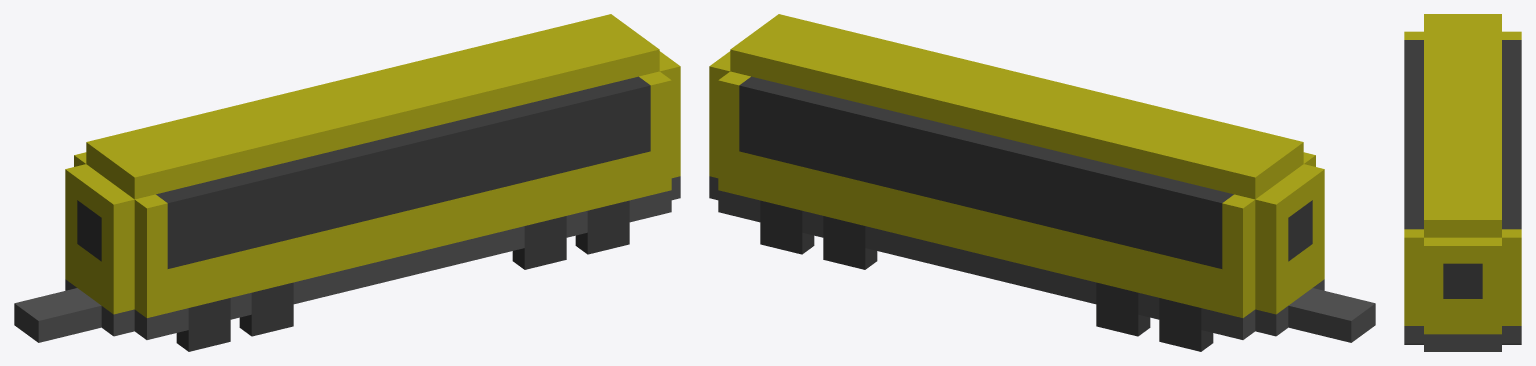
Rendered from train-trailer-v1-yellow.gltf.
The picture shows the model from 3 angles, left to right: view 1: azimuth 30°, elevation 25°; view 2: azimuth 150°, elevation 25°; view 3: azimuth 270°, elevation 25°; orthographic projection. The views are drawn at different scales.
Visible parts, largest first — view 1: model, wheels; view 2: model, wheels; view 3: model.
Boxes of the visible parts, bbox=[...] form: model: bbox=[14, 14, 680, 342]; wheels: bbox=[176, 200, 629, 351]; model: bbox=[709, 14, 1375, 342]; wheels: bbox=[760, 200, 1213, 351]; model: bbox=[1404, 14, 1521, 351].
Size of the model in its own units: 3 by 0.8 by 0.6.
Materials: 2 (2 with a texture image).
